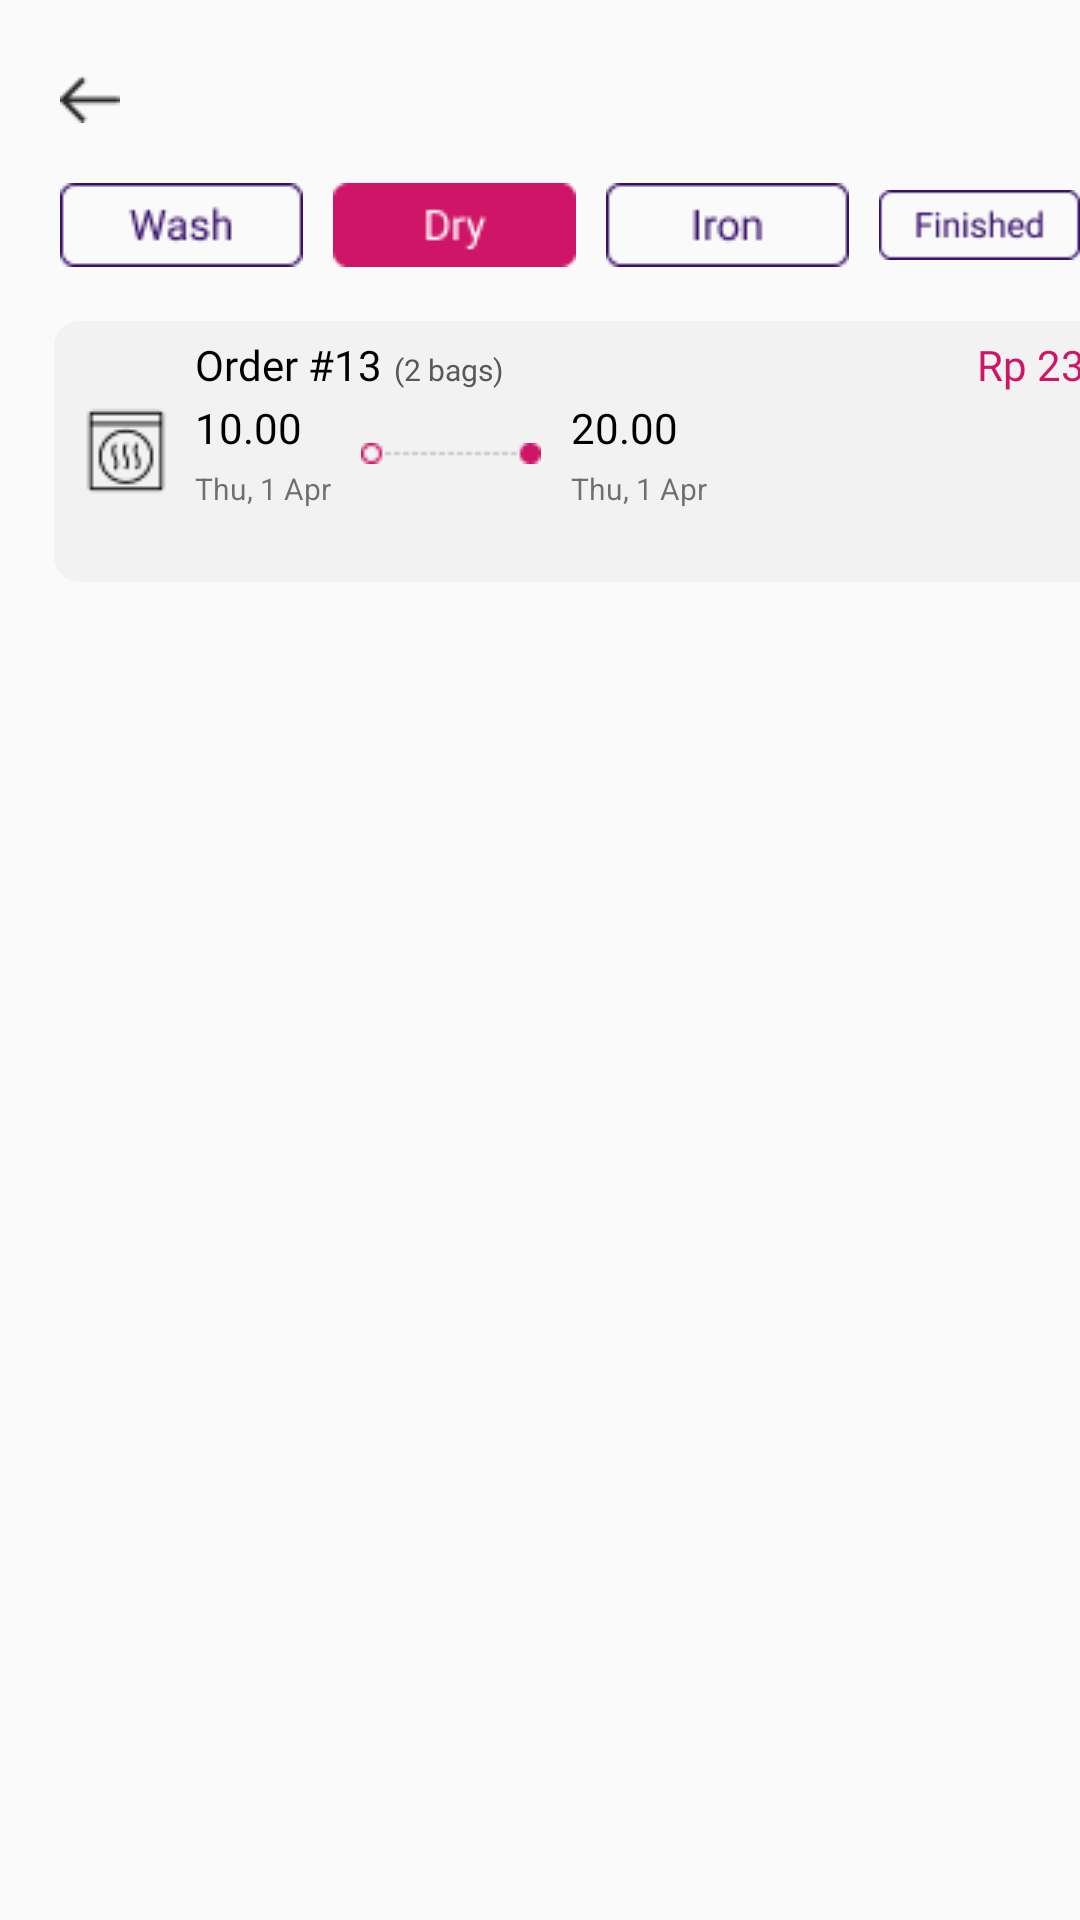

Icons on this 1080px×1920px Android screen, each with the point to tap as [x,y]:
back: [90,100]
drying: [126,451]
